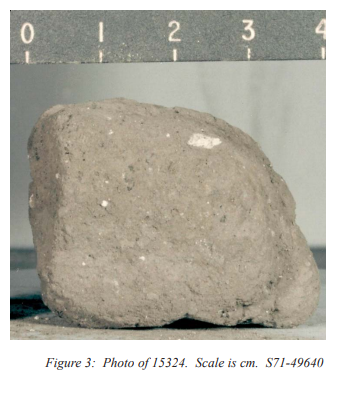Breccia: (27, 99, 325, 329), (81, 162, 291, 319)
